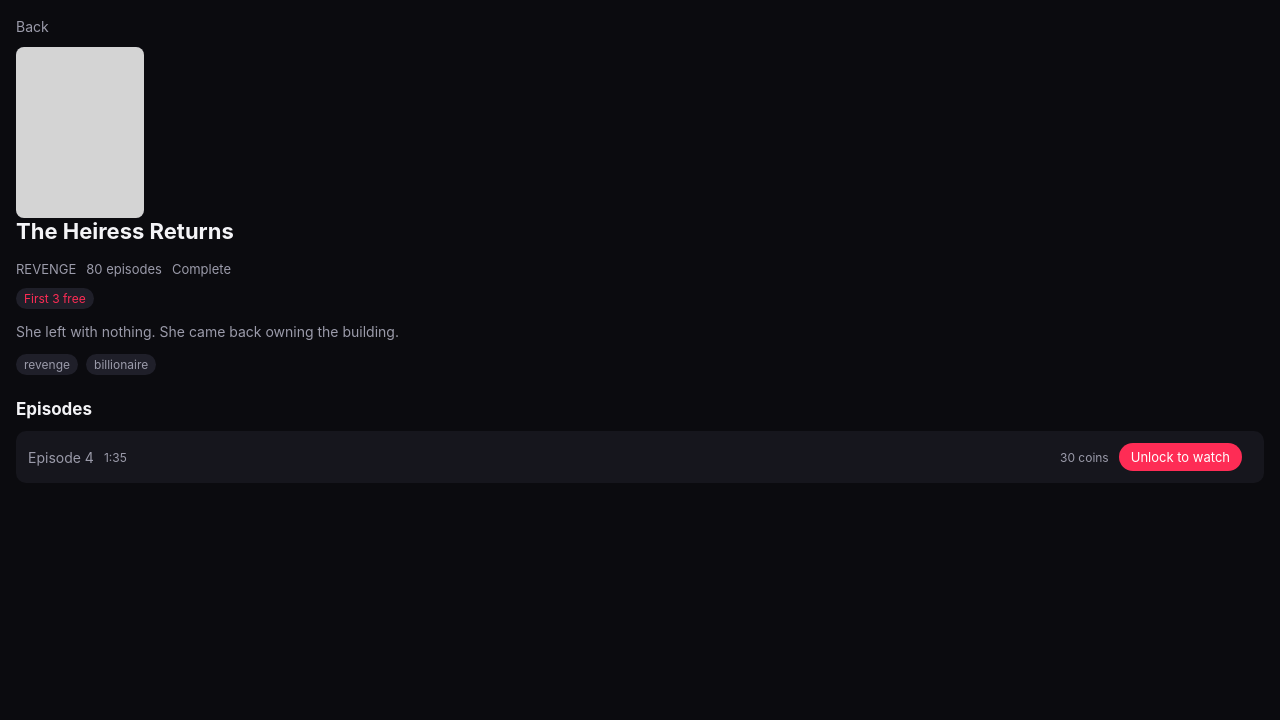
Test: the unlock panel opens from the episode list › refetches the episodes after a grant rather than patching the row
This screenshot has width=1280, height=720.
Check: the list with test id "episode-list" is shown, box [16,431,1264,483]
Click the button with test id "episode-action" at (1180, 457), box [1119,443,1242,471]
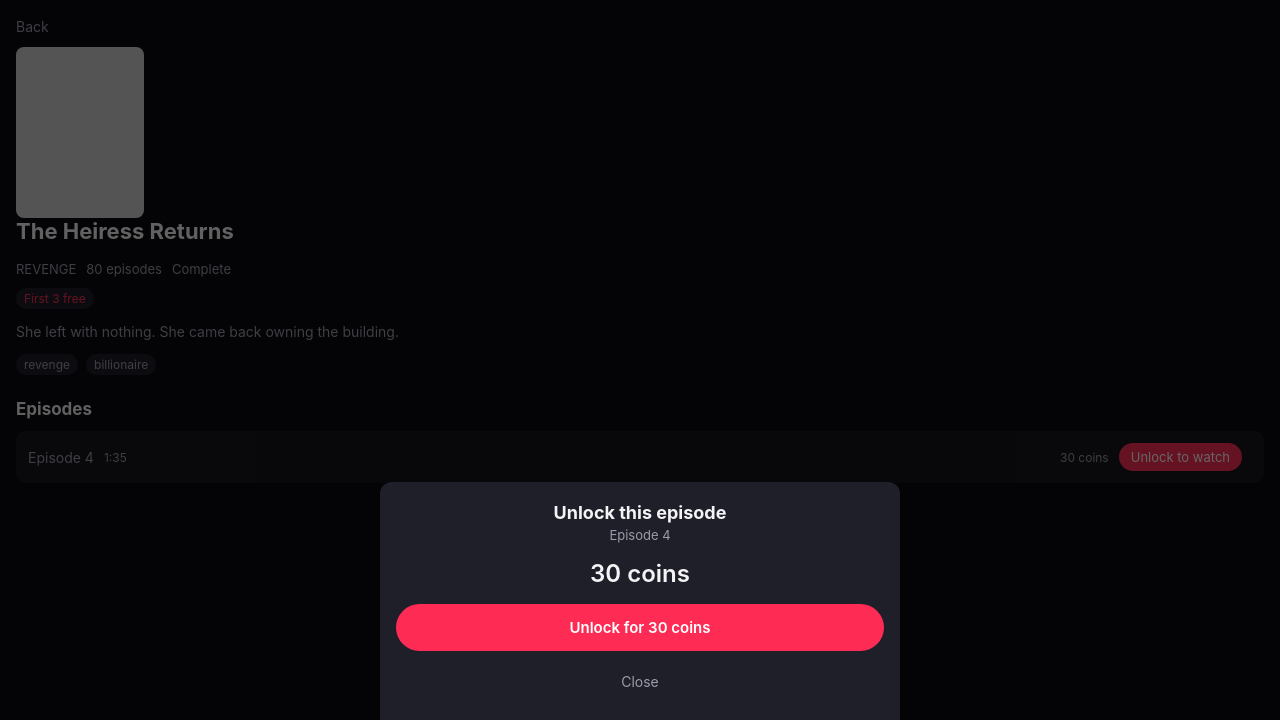
Click the button with test id "unlock-confirm" at (640, 628), box [396,604,884,651]
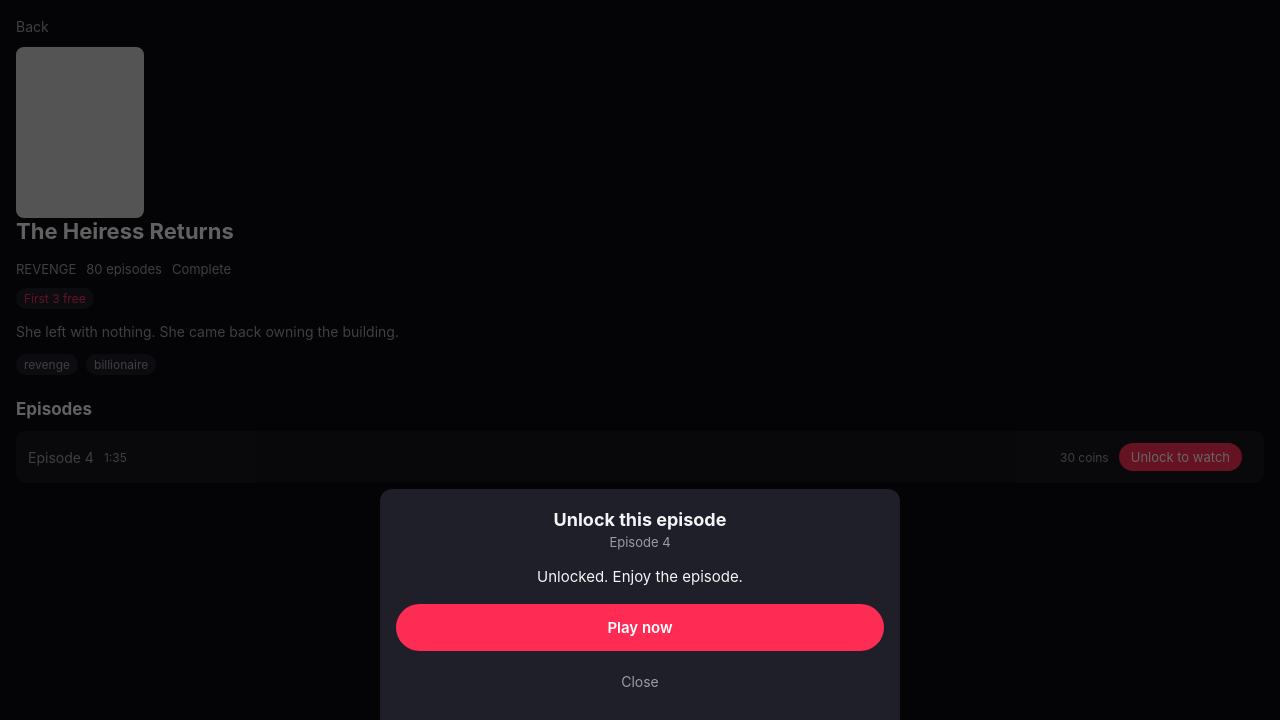
Check: the text "Unlocked. Enjoy the episode." is shown, box [537,567,743,586]
